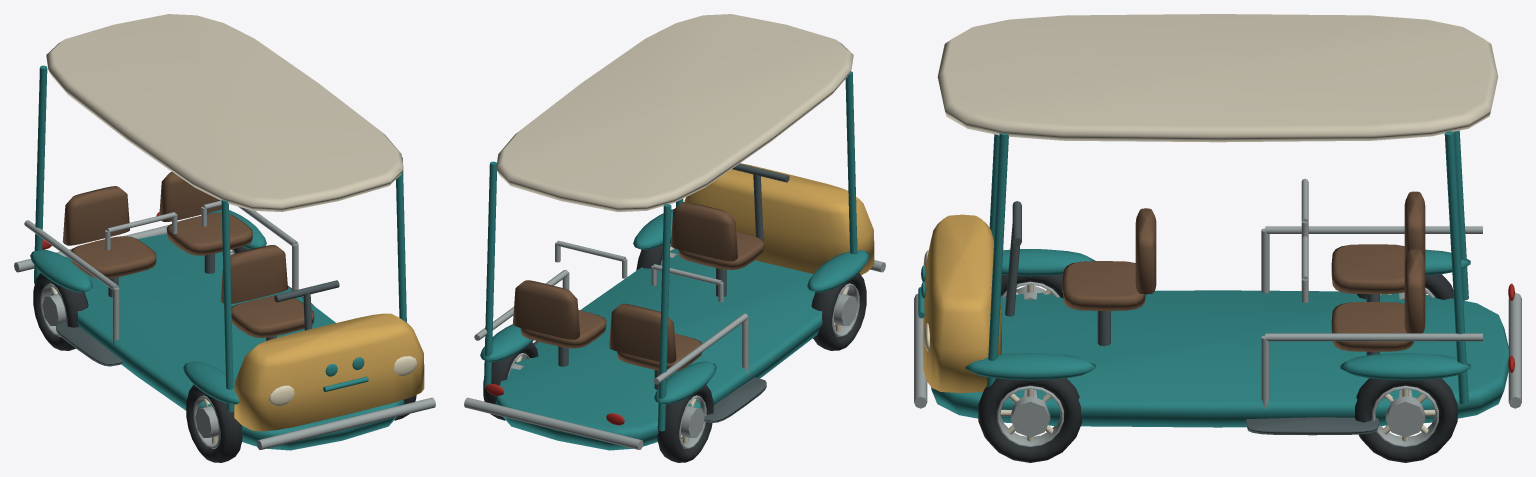
Rendered from lift.glb.
3 renders of one model, left to right at view 1: azimuth 30°, elevation 25°; view 2: azimuth 150°, elevation 25°; view 3: azimuth 270°, elevation 25°, orthographic. The views are drawn at different scales.
Parts seen in each view (by area): view 1: lift:coachwork:LOD0, lift:pivot.wheel.front.R:LOD0, lift:pivot.wheel.rear.R:LOD0; view 2: lift:coachwork:LOD0, lift:pivot.wheel.rear.R:LOD0, lift:pivot.wheel.front.R:LOD0, lift:pivot.wheel.rear.L:LOD0, lift:pivot.wheel.front.L:LOD0; view 3: lift:coachwork:LOD0, lift:pivot.wheel.front.L:LOD0, lift:pivot.wheel.rear.L:LOD0, lift:pivot.wheel.front.R:LOD0, lift:pivot.wheel.rear.R:LOD0.
Part boxes in pixels (<box>): lift:coachwork:LOD0: <box>14,14,435,450</box>; lift:pivot.wheel.front.R:LOD0: <box>186,384,242,462</box>; lift:pivot.wheel.rear.R:LOD0: <box>33,273,88,350</box>; lift:coachwork:LOD0: <box>464,14,885,450</box>; lift:pivot.wheel.rear.R:LOD0: <box>657,384,713,462</box>; lift:pivot.wheel.front.R:LOD0: <box>811,273,866,350</box>; lift:pivot.wheel.rear.L:LOD0: <box>483,342,538,420</box>; lift:pivot.wheel.front.L:LOD0: <box>636,241,677,270</box>; lift:coachwork:LOD0: <box>914,14,1521,435</box>; lift:pivot.wheel.front.L:LOD0: <box>978,378,1081,462</box>; lift:pivot.wheel.rear.L:LOD0: <box>1354,378,1457,462</box>; lift:pivot.wheel.front.R:LOD0: <box>1001,274,1063,299</box>; lift:pivot.wheel.rear.R:LOD0: <box>1357,274,1453,299</box>.
Size of what is drawn, in the model's own units: 1.64 by 1.98 by 3.21.
